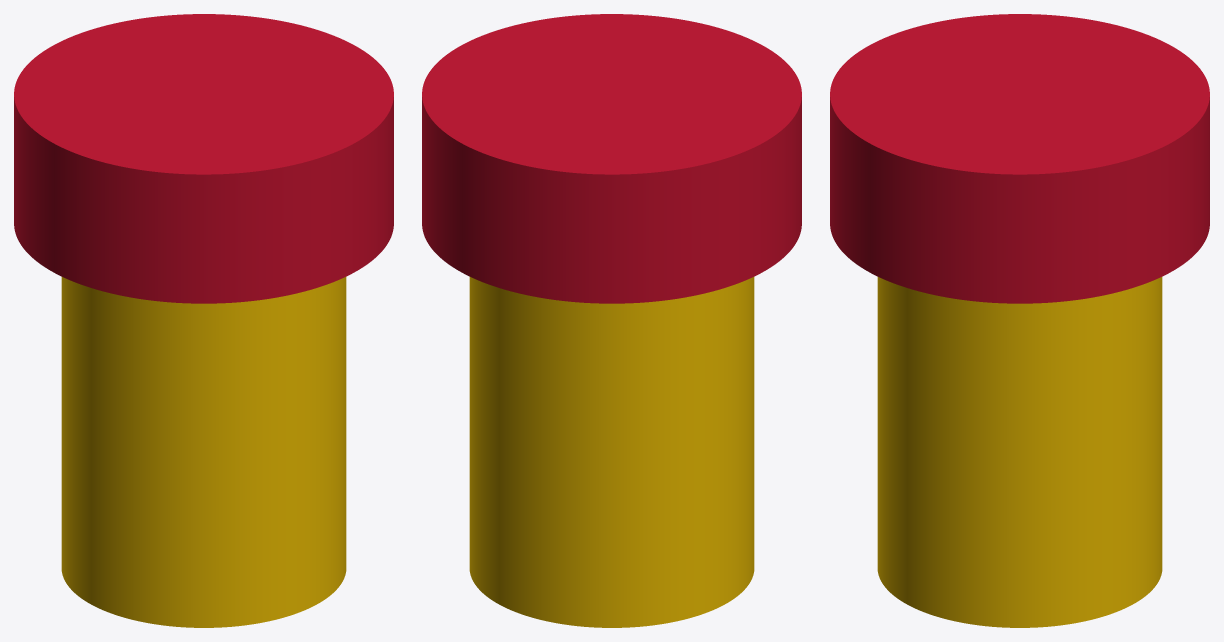
File: e_stop.dae
The picture shows the model from 3 angles, left to right: view 1: azimuth 30°, elevation 25°; view 2: azimuth 150°, elevation 25°; view 3: azimuth 270°, elevation 25°; orthographic projection.
Visible parts, largest first — view 1: EStopMushroom, EStopHousing; view 2: EStopMushroom, EStopHousing; view 3: EStopMushroom, EStopHousing.
Boxes of the visible parts, box(x1,y1,x2,y2) form: EStopMushroom: box(14, 14, 393, 303); EStopHousing: box(61, 277, 346, 627); EStopMushroom: box(422, 14, 801, 303); EStopHousing: box(469, 277, 754, 627); EStopMushroom: box(830, 14, 1209, 303); EStopHousing: box(877, 277, 1162, 627).
Bounding box in the file's own units: 0.04 × 0.04 × 0.055.
